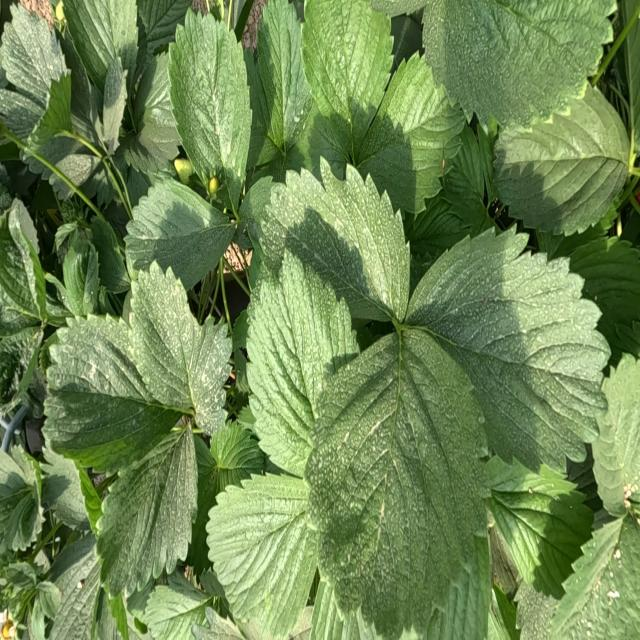Flowers: (0, 610, 17, 639)
Leaves: (305, 329, 486, 639), (408, 229, 610, 469), (259, 159, 410, 321), (425, 2, 615, 128), (247, 252, 353, 474), (45, 317, 174, 471), (493, 89, 628, 233), (209, 473, 316, 638), (98, 420, 198, 595), (486, 456, 594, 599), (371, 53, 463, 211), (302, 0, 392, 159), (169, 13, 251, 186), (126, 179, 234, 287), (129, 264, 202, 409), (193, 421, 265, 561), (551, 513, 629, 636), (569, 235, 639, 359), (258, 2, 312, 155), (592, 356, 639, 514), (125, 52, 181, 174), (0, 5, 67, 106), (65, 0, 138, 88), (1, 201, 46, 335), (273, 101, 345, 181), (444, 125, 497, 229), (49, 535, 100, 639), (441, 537, 491, 639), (188, 318, 231, 435), (404, 191, 471, 264), (0, 446, 44, 555), (144, 571, 208, 639), (42, 444, 87, 527), (136, 0, 191, 59), (0, 328, 42, 402), (90, 215, 129, 292), (244, 49, 267, 171), (102, 57, 127, 153), (516, 582, 556, 639), (240, 176, 276, 235), (1, 90, 41, 141), (391, 12, 422, 73), (56, 154, 99, 185), (49, 173, 74, 199)
Strawberries: (174, 159, 193, 184), (209, 178, 218, 194)
